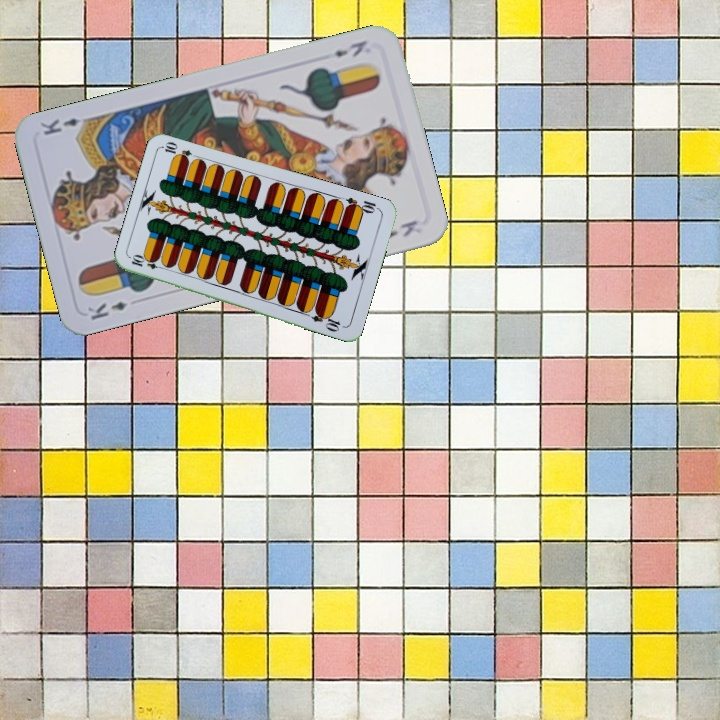E10: (341, 193, 382, 216), (127, 252, 168, 272)
EK: (83, 297, 130, 323), (330, 36, 370, 60)
